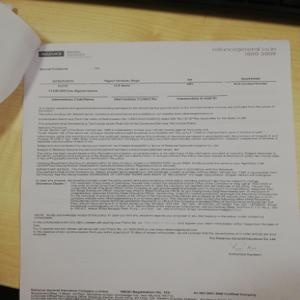image: (38, 46, 64, 58)
text: (38, 103, 281, 179), (33, 211, 282, 258), (34, 178, 279, 212)
